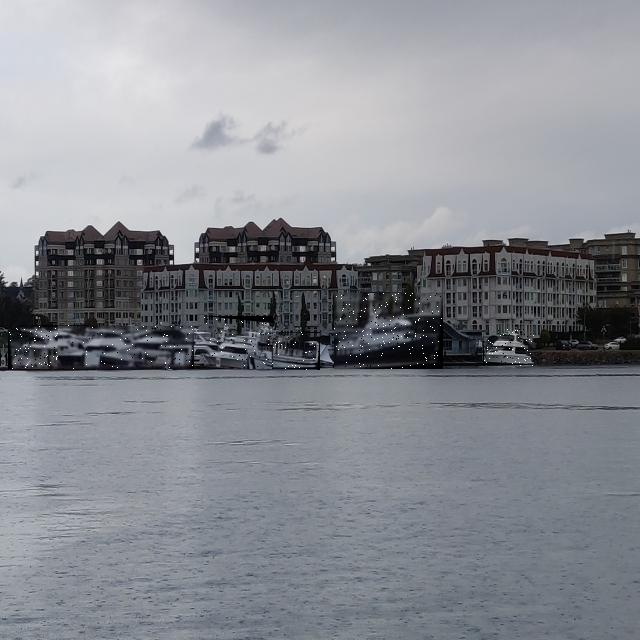boat: (334, 293, 443, 369), (100, 326, 194, 369), (8, 325, 93, 369), (204, 316, 273, 369), (58, 326, 135, 369), (250, 332, 320, 370), (483, 329, 534, 366)
